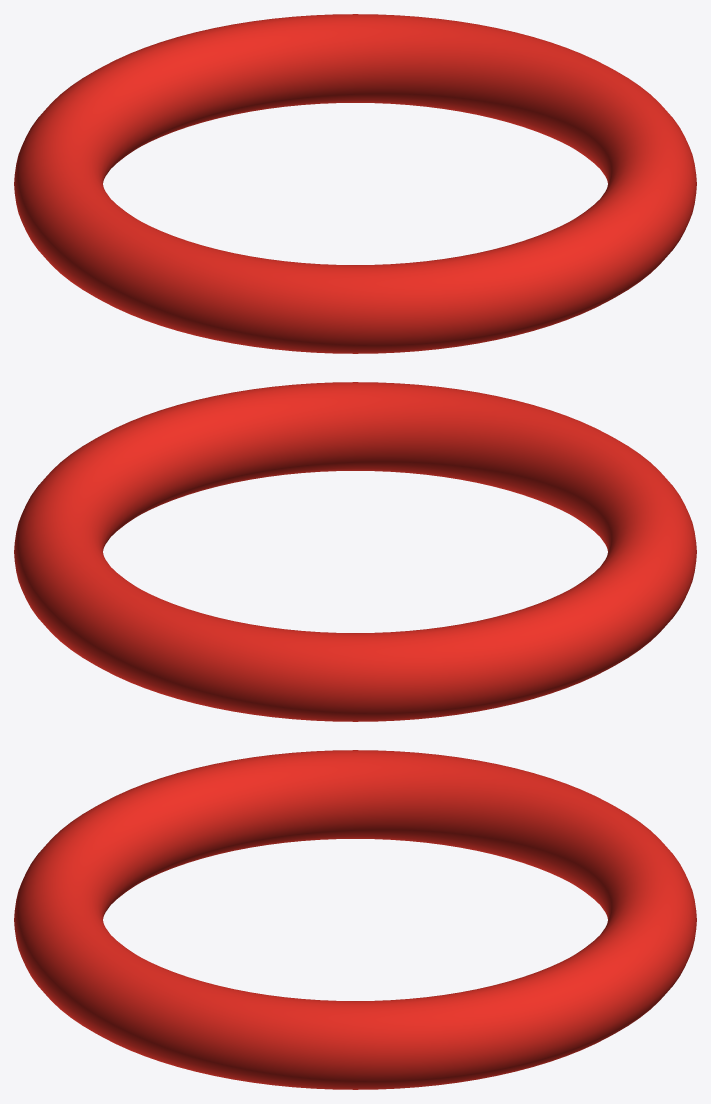
The model's file is PointConstruction.fbx.
3 renders of one model, top to bottom at view 1: azimuth 30°, elevation 25°; view 2: azimuth 150°, elevation 25°; view 3: azimuth 270°, elevation 25°, orthographic.
Parts seen in each view (by area): view 1: Torus; view 2: Torus; view 3: Torus.
Boxes of the visible parts, bbox=[...] form: Torus: bbox=[14, 14, 696, 353]; Torus: bbox=[14, 382, 696, 721]; Torus: bbox=[14, 750, 696, 1089].
Bounding box in the file's own units: 2.3 × 0.3 × 2.3.
